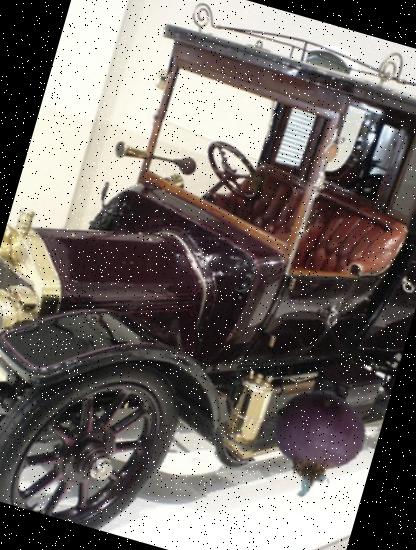Onion: (243, 373, 384, 514)
